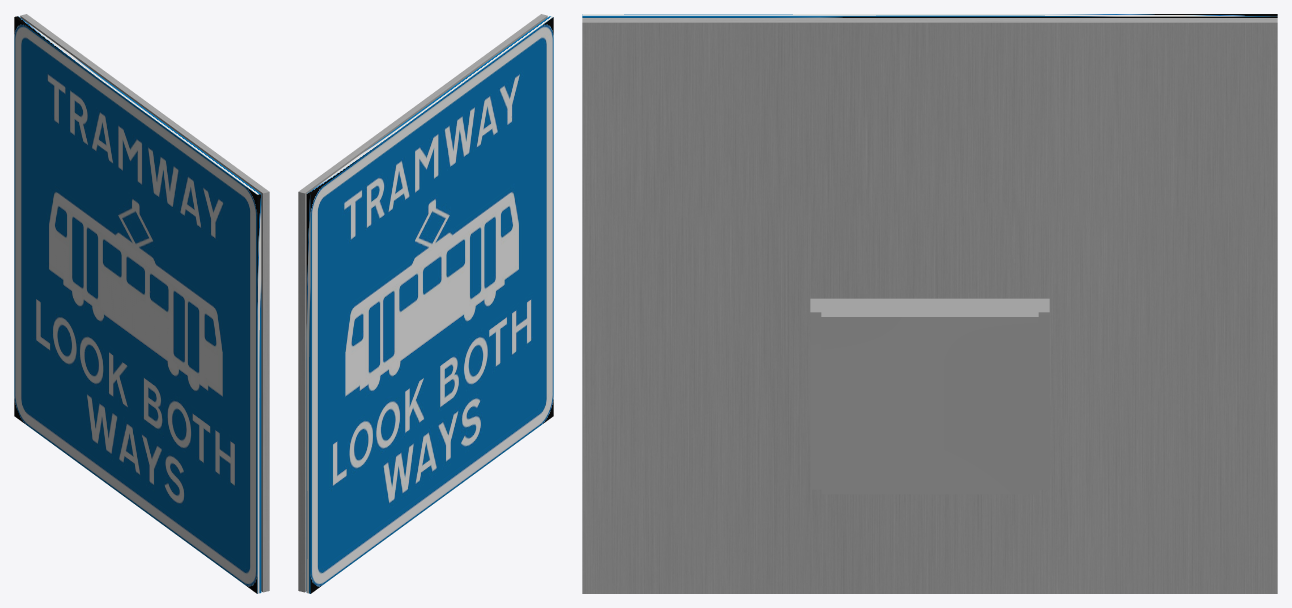
File: tramway.obj
3 views of the same model, side by side, from view 1: azimuth 30°, elevation 25°; view 2: azimuth 150°, elevation 25°; view 3: azimuth 270°, elevation 25° (orthographic). The views are drawn at different scales.
Visible parts, largest first — view 1: cube; view 2: cube; view 3: cube.
Boxes of the visible parts, bbox=[...] form: cube: bbox=[14, 14, 269, 593]; cube: bbox=[298, 14, 553, 593]; cube: bbox=[582, 14, 1277, 593].
Bounding box in the file's own units: 0.0922 × 0.9062 × 1.
Materials: 2 (2 with a texture image).
